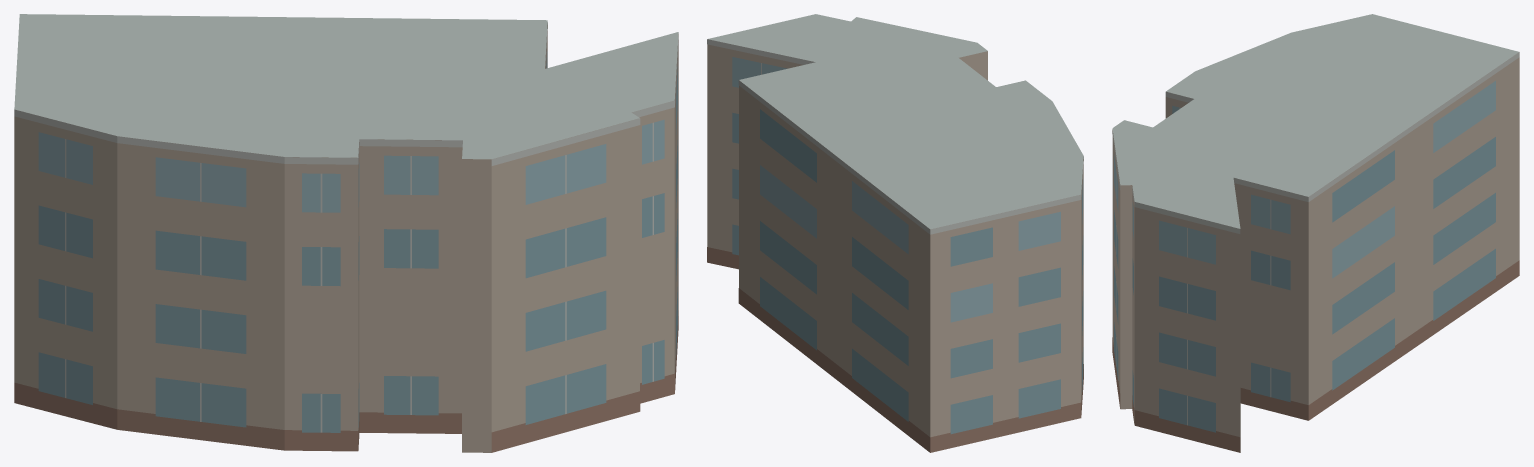
The model's file is survey-upis-32610446.glb.
3 renders of one model, left to right at view 1: azimuth 30°, elevation 25°; view 2: azimuth 150°, elevation 25°; view 3: azimuth 270°, elevation 25°, orthographic. The views are drawn at different scales.
Visible parts, largest first — view 1: survey-upis-32610446.tmp; view 2: survey-upis-32610446.tmp; view 3: survey-upis-32610446.tmp.
Part boxes in pixels (left/top/right/bottom): survey-upis-32610446.tmp: left=14, top=14, right=678, bottom=452; survey-upis-32610446.tmp: left=707, top=14, right=1083, bottom=452; survey-upis-32610446.tmp: left=1112, top=14, right=1519, bottom=452.
Bounding box in the file's own units: 21.22 × 10.3 × 16.98.
